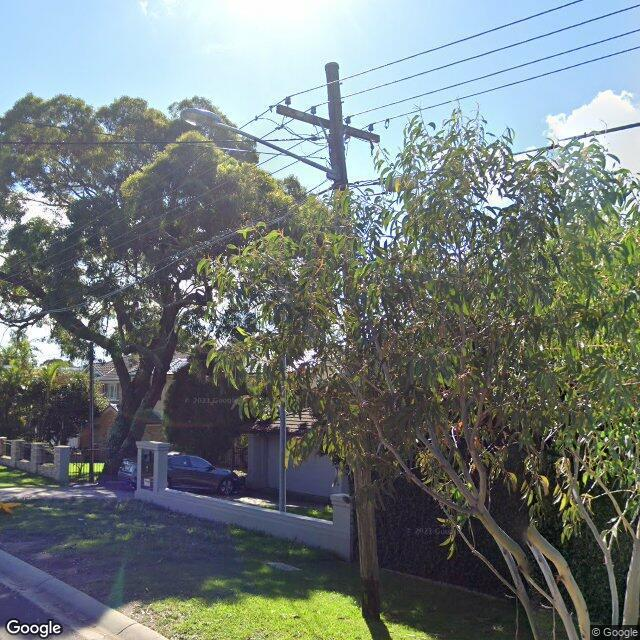crossarm: (276, 104, 381, 144)
streetlight: (179, 106, 342, 182)
timber-pole: (325, 61, 382, 618)
